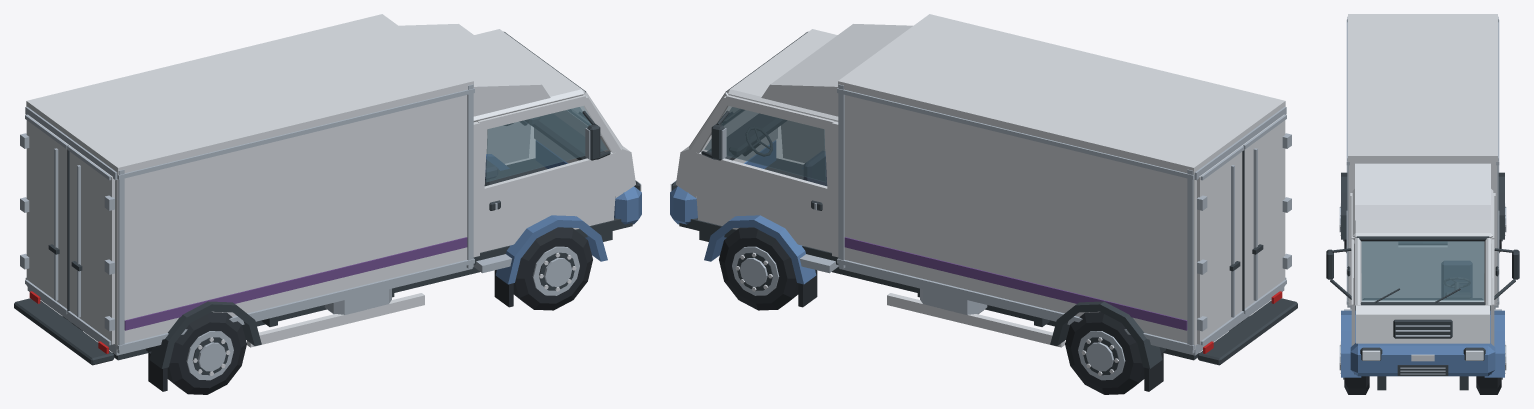
Rendered from truck_reference_lowpoly.glb.
The picture shows the model from 3 angles, left to right: view 1: azimuth 30°, elevation 25°; view 2: azimuth 150°, elevation 25°; view 3: azimuth 270°, elevation 25°; orthographic projection. The views are drawn at different scales.
Visible parts, largest first — view 1: CargoSide, CargoRoof, CabDoorLower_Right, RearDoor_Right, RearDoor_Left, RoofDeflector, SideWindow_Right, CargoPurpleStripe, Tire_Front_Right, Tire_Rear_Right, CabinRoof, RearStep (+25 smaller); view 2: CargoSide.001, CargoRoof, CabDoorLower_Left, RearDoor_Left, RearDoor_Right, RoofDeflector, SideWindow_Left, CargoPurpleStripe.001, Tire_Front_Left, Tire_Rear_Left, CabinRoof, RearStep (+27 smaller); view 3: CargoRoof, RoofDeflector, FrontWindshield, BulkheadLower, FrontNose, BlueBumper, CabinRoof, UpperGrille, DriverBackrest, WheelArch_Front_Left, WheelArch_Front_Right, WindshieldTop (+31 smaller).
Part boxes in pixels (x1,y1,x2,y2): CargoSide: [114, 95, 467, 350]; CargoRoof: [26, 14, 473, 174]; CabDoorLower_Right: [480, 152, 618, 252]; RearDoor_Right: [69, 146, 114, 344]; RearDoor_Left: [26, 114, 69, 308]; RoofDeflector: [399, 24, 550, 116]; SideWindow_Right: [485, 107, 607, 182]; CargoPurpleStripe: [124, 237, 467, 330]; Tire_Front_Right: [513, 227, 592, 310]; Tire_Rear_Right: [167, 312, 246, 394]; CabinRoof: [473, 29, 584, 121]; RearStep: [14, 298, 114, 365]; CargoSide.001: [844, 95, 1197, 350]; CargoRoof: [838, 14, 1285, 174]; CabDoorLower_Left: [693, 152, 831, 252]; RearDoor_Left: [1197, 146, 1242, 344]; RearDoor_Right: [1242, 114, 1285, 308]; RoofDeflector: [761, 24, 912, 116]; SideWindow_Left: [704, 107, 826, 182]; CargoPurpleStripe.001: [844, 237, 1187, 330]; Tire_Front_Left: [719, 227, 798, 310]; Tire_Rear_Left: [1065, 312, 1144, 394]; CabinRoof: [727, 29, 838, 121]; RearStep: [1197, 298, 1297, 365]; CargoRoof: [1348, 14, 1497, 163]; RoofDeflector: [1355, 163, 1490, 220]; FrontWindshield: [1361, 241, 1484, 301]; BulkheadLower: [1362, 245, 1483, 299]; FrontNose: [1356, 300, 1489, 343]; BlueBumper: [1350, 343, 1495, 376]; CabinRoof: [1352, 189, 1493, 238]; UpperGrille: [1393, 319, 1452, 338]; DriverBackrest: [1441, 261, 1472, 297]; WheelArch_Front_Left: [1484, 310, 1504, 377]; WheelArch_Front_Right: [1341, 310, 1361, 377]; WindshieldTop: [1356, 236, 1489, 241].
Bounding box in the file's own units: 9.49 × 4.09 × 3.52.
